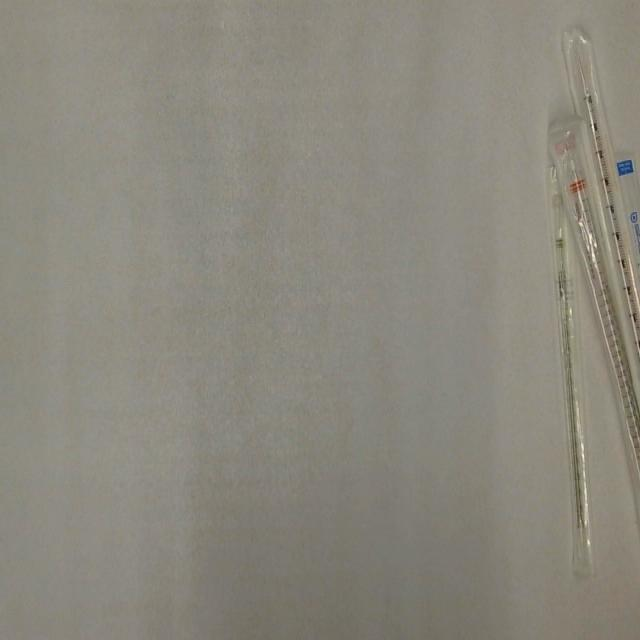Serelogical Pipet 10 mL: (556, 23, 640, 373)
Serelogical Pipet 2 mL: (544, 163, 599, 584)
Serelogical Pipet 25 mL: (546, 107, 640, 514)
Serelogical Pipet 5 mL: (614, 144, 640, 277)
